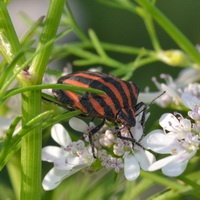insect: (53, 71, 146, 141)
